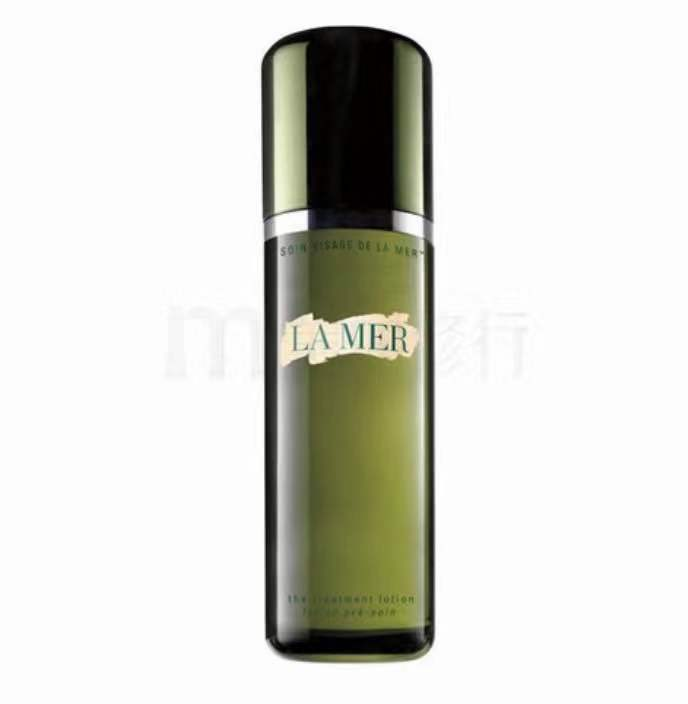cosmetic: (264, 35, 443, 658)
